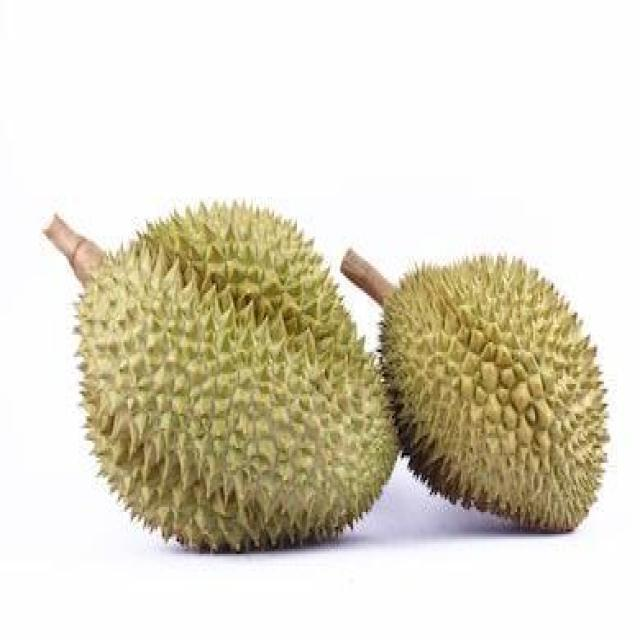mature: (381, 257, 608, 532)
